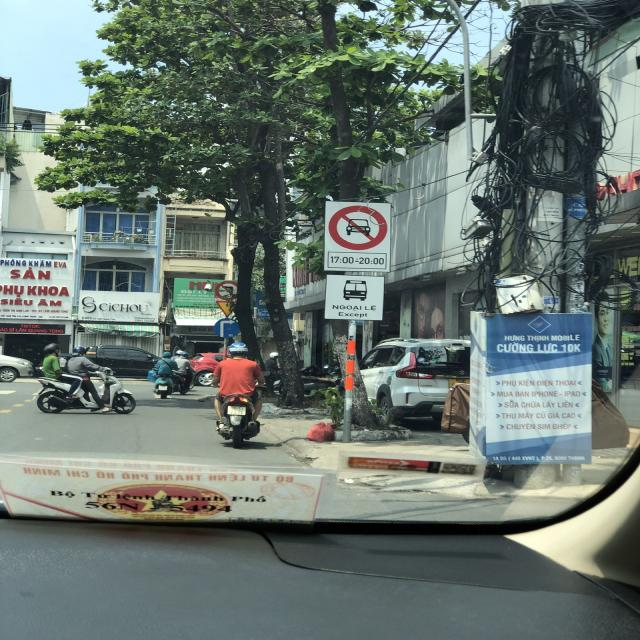Bien bao cam xe oto: (326, 200, 392, 253)
